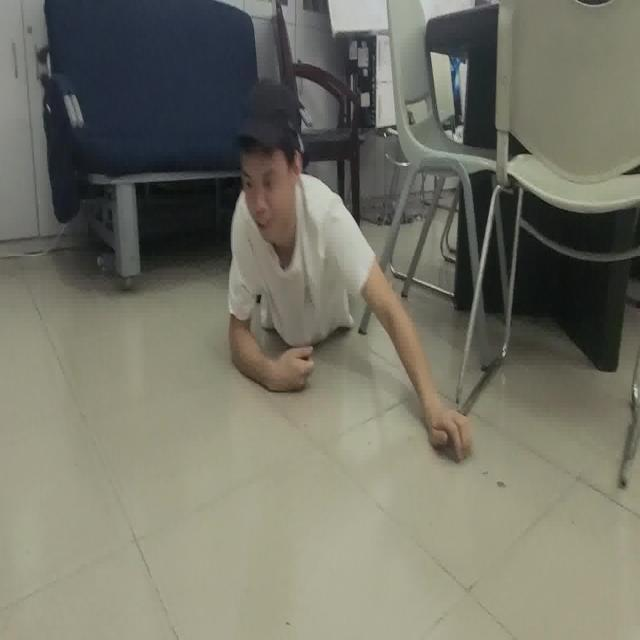fall: (223, 72, 475, 462)
